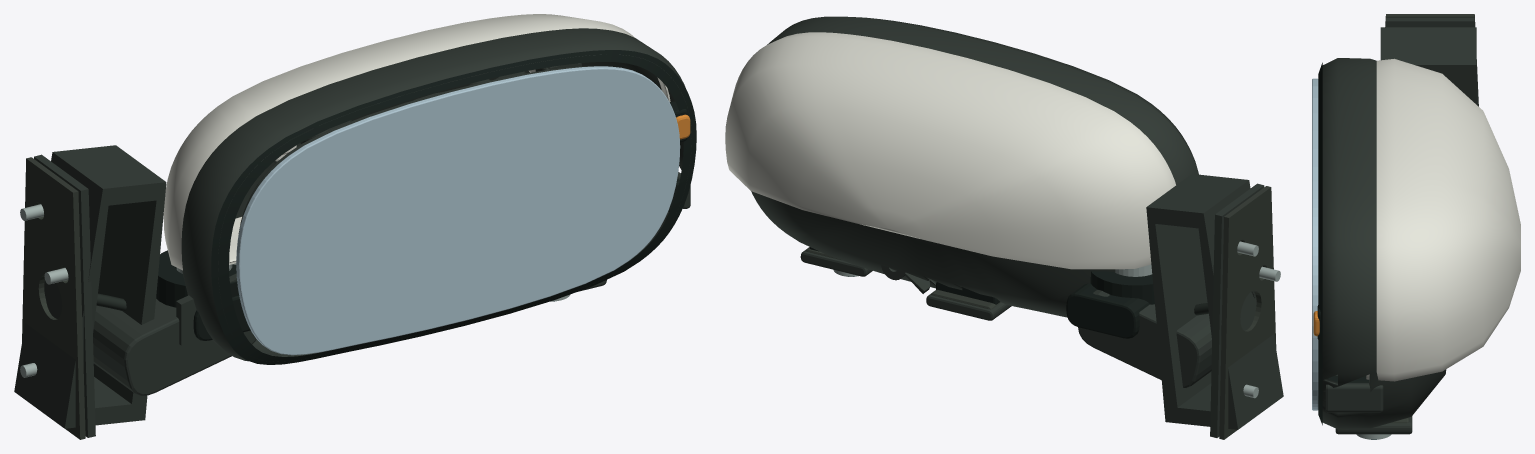
The model's file is mirror.glb.
3 views of the same model, side by side, from view 1: azimuth 30°, elevation 25°; view 2: azimuth 150°, elevation 25°; view 3: azimuth 270°, elevation 25° (orthographic). The views are drawn at different scales.
Visible parts, largest first — view 1: glass, base, housingWall, housing, cap, doorSeal, foldMotor, glassCarrier; view 2: cap, base, housingWall, doorSeal, foldMotor, puddleLampBlank, cameraBlank; view 3: cap, housingWall, base, housing, glass, cameraBlank, doorSeal.
Boxes of the visible parts, left/top/right/bottom form: glass: left=236, top=66, right=680, bottom=355; base: left=14, top=145, right=256, bottom=437; housingWall: left=181, top=28, right=691, bottom=361; housing: left=211, top=50, right=696, bottom=364; cap: left=163, top=14, right=670, bottom=270; doorSeal: left=22, top=157, right=85, bottom=439; foldMotor: left=156, top=250, right=238, bottom=307; glassCarrier: left=238, top=66, right=593, bottom=233; cap: left=725, top=32, right=1175, bottom=269; base: left=1066, top=174, right=1283, bottom=437; housingWall: left=751, top=16, right=1198, bottom=317; doorSeal: left=1219, top=186, right=1276, bottom=439; foldMotor: left=1090, top=271, right=1154, bottom=304; puddleLampBlank: left=926, top=289, right=1011, bottom=320; cameraBlank: left=800, top=247, right=872, bottom=276; cap: left=1366, top=58, right=1520, bottom=381; housingWall: left=1322, top=58, right=1446, bottom=429; base: left=1380, top=17, right=1478, bottom=106; housing: left=1318, top=62, right=1383, bottom=425; glass: left=1312, top=78, right=1318, bottom=410; cameraBlank: left=1335, top=416, right=1412, bottom=434; doorSeal: left=1385, top=14, right=1478, bottom=106.
Bounding box in the file's own units: 3.91 × 1.84 × 1.22.
